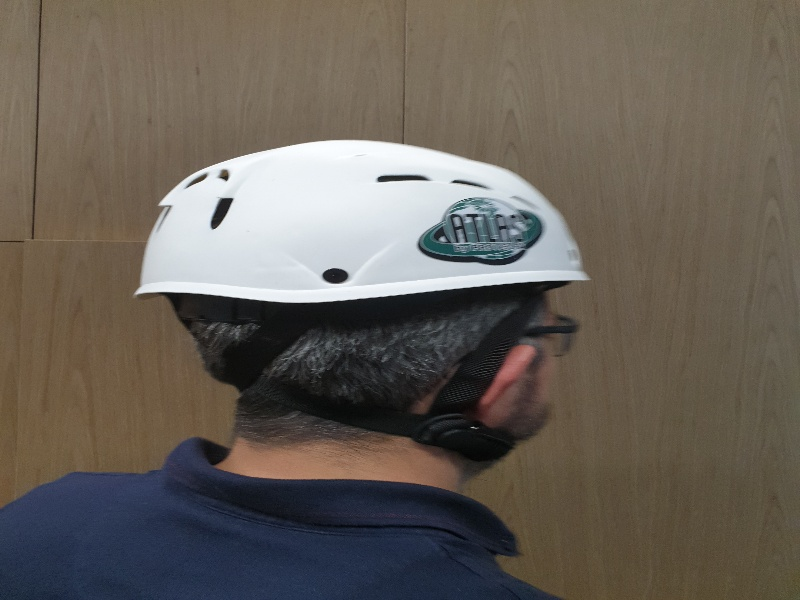Baret: (141, 137, 588, 309)
